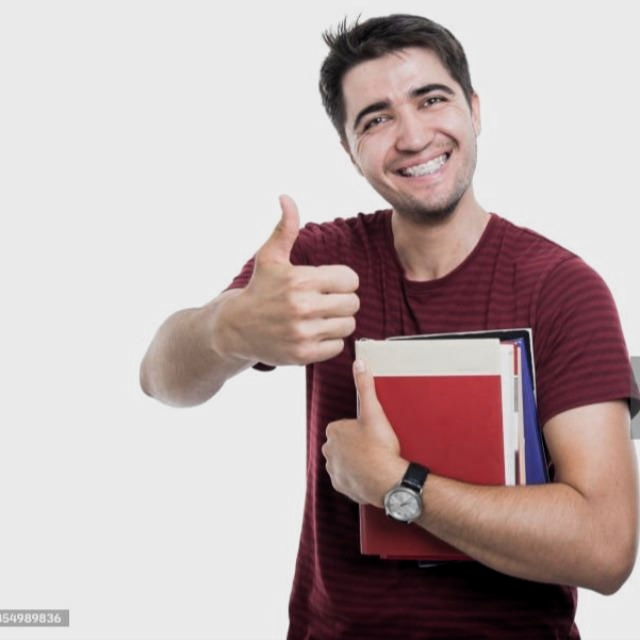Sin_Casco_Mascarrilla: (321, 14, 483, 220)
